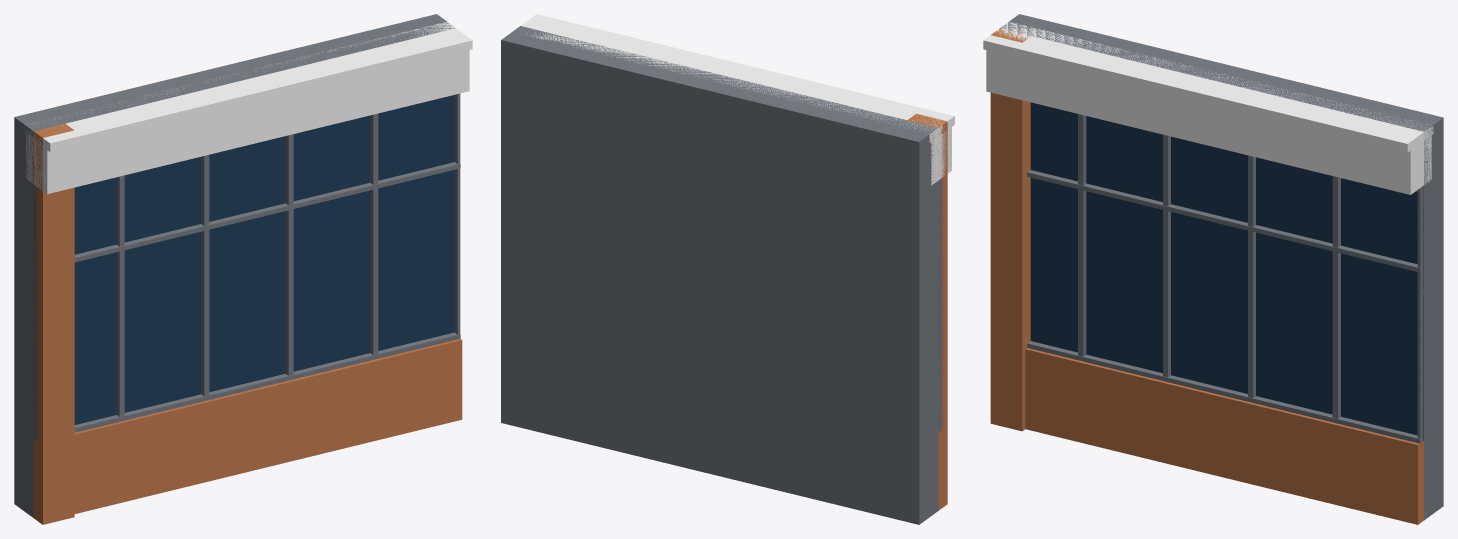
File: top-w1.fbx
3 renders of one model, left to right at view 1: azimuth 30°, elevation 25°; view 2: azimuth 150°, elevation 25°; view 3: azimuth 330°, elevation 25°, orthographic.
Parts seen in each view (by area): view 1: a2002/0/top-w1; view 2: a2002/0/top-w1; view 3: a2002/0/top-w1.
Boxes of the visible parts, box(x1,y1,x2,y2) form: a2002/0/top-w1: box(14, 14, 472, 524); a2002/0/top-w1: box(501, 14, 954, 524); a2002/0/top-w1: box(983, 14, 1443, 524).
Size of the model in its own units: 4 by 3.5 by 0.59.
